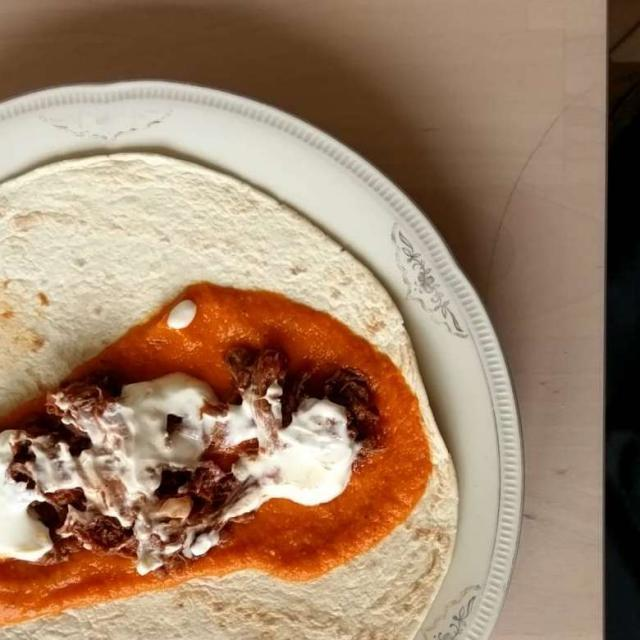beef: (23, 331, 382, 563)
bread: (1, 157, 470, 638)
tomato-sauce: (2, 286, 425, 618)
yogurt: (7, 382, 367, 565)
